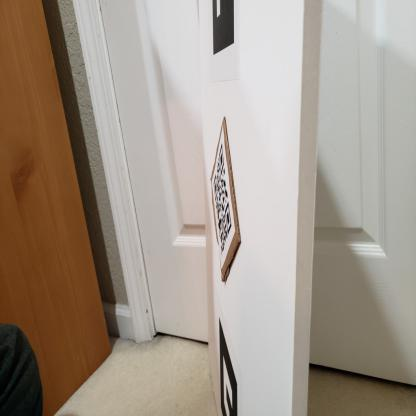qr: (207, 149, 239, 251)
